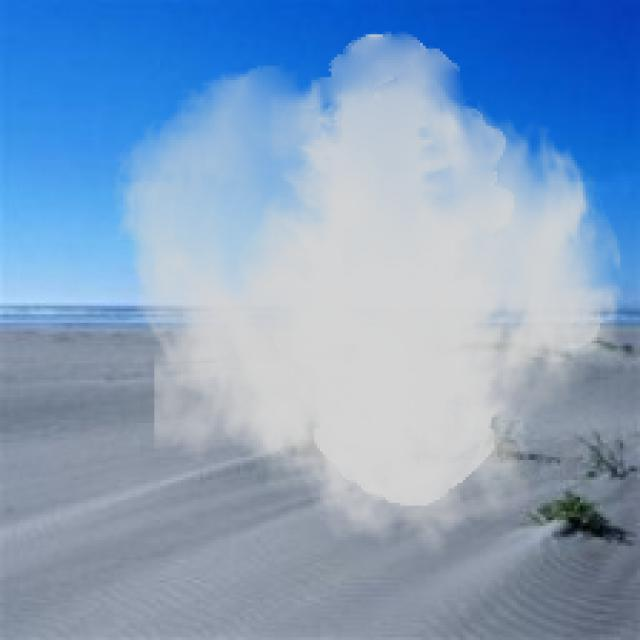Smoke: (109, 31, 628, 560)
